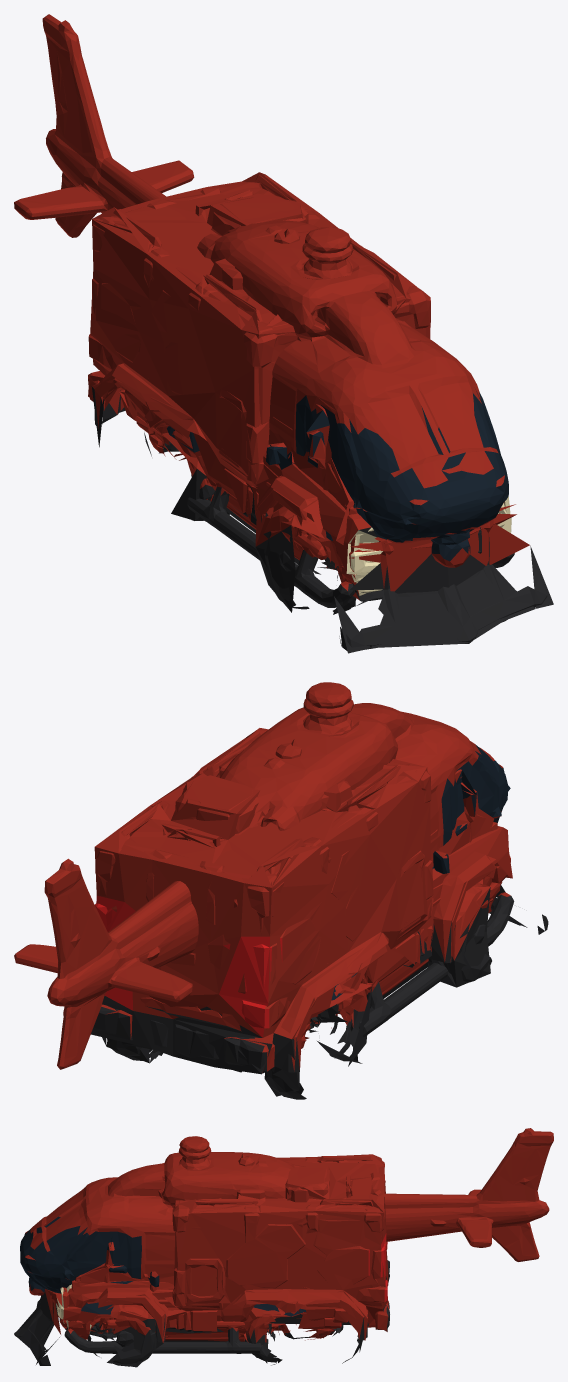
Rendered from cars.glb.
3 renders of one model, top to bottom at view 1: azimuth 30°, elevation 25°; view 2: azimuth 150°, elevation 25°; view 3: azimuth 270°, elevation 25°, orthographic. The views are drawn at different scales.
Visible parts, largest first — view 1: heli, truck_lo, truck, pickup_lo, pickup, muscle, sedan, muscle_lo; view 2: truck_lo, heli, truck, pickup_lo, sedan, pickup; view 3: heli, truck, truck_lo, pickup, muscle_lo, sedan, muscle, sedan_lo.
Part boxes in pixels (bbox=[...]): heli: bbox=[14, 14, 514, 607]; truck_lo: bbox=[88, 172, 553, 653]; truck: bbox=[88, 174, 547, 650]; pickup_lo: bbox=[119, 389, 506, 575]; pickup: bbox=[124, 395, 511, 572]; muscle: bbox=[136, 420, 383, 601]; sedan: bbox=[148, 432, 383, 613]; muscle_lo: bbox=[165, 426, 366, 595]; truck_lo: bbox=[91, 730, 520, 1096]; heli: bbox=[14, 682, 514, 1069]; truck: bbox=[92, 728, 548, 1099]; pickup_lo: bbox=[303, 826, 512, 1066]; sedan: bbox=[301, 898, 493, 1053]; pickup: bbox=[310, 850, 510, 1057]; heli: bbox=[20, 1128, 553, 1353]; truck: bbox=[14, 1155, 389, 1366]; truck_lo: bbox=[14, 1154, 389, 1367]; pickup: bbox=[50, 1271, 348, 1362]; muscle_lo: bbox=[60, 1302, 342, 1342]; sedan: bbox=[67, 1313, 334, 1356]; muscle: bbox=[59, 1304, 341, 1360]; sedan_lo: bbox=[80, 1315, 334, 1357].
Bounding box in the file's own units: 2.51 × 3.83 × 8.9.
